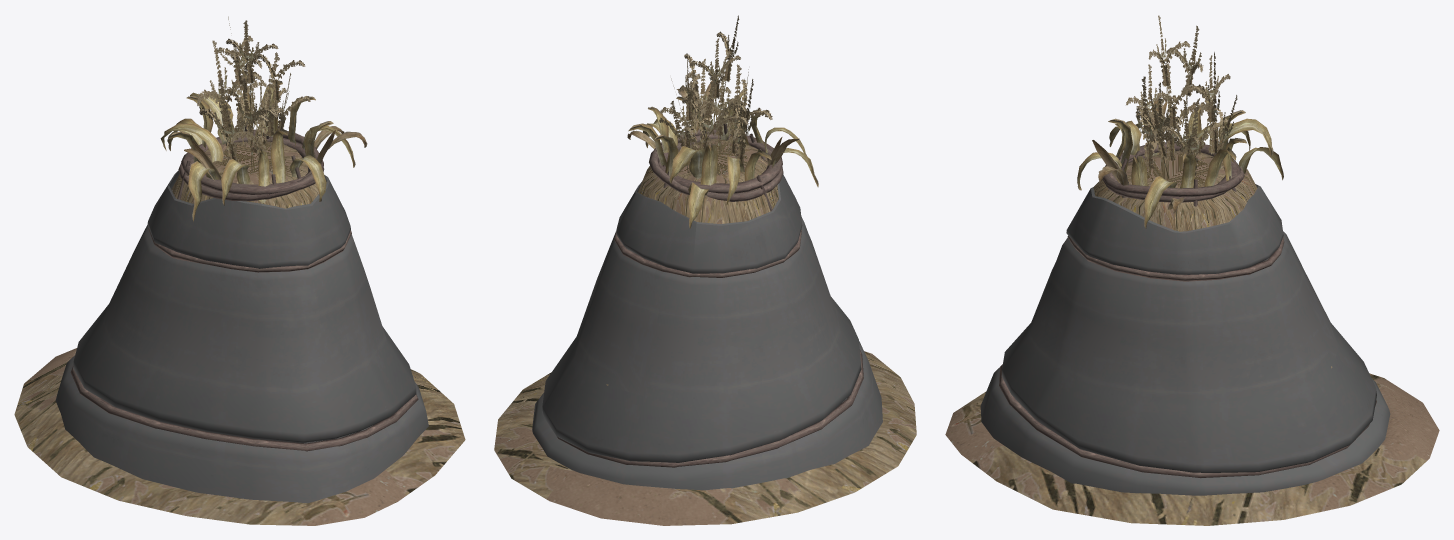
The model's file is SM_FAR_CornStackCover_02.fbx.
The picture shows the model from 3 angles, left to right: view 1: azimuth 30°, elevation 25°; view 2: azimuth 150°, elevation 25°; view 3: azimuth 270°, elevation 25°; orthographic projection. The views are drawn at different scales.
Visible parts, largest first — view 1: SM_FAR_CornStackCover_02.mo; view 2: SM_FAR_CornStackCover_02.mo; view 3: SM_FAR_CornStackCover_02.mo.
Boxes of the visible parts, x1,y1,x2,y2 form: SM_FAR_CornStackCover_02.mo: (14,16,465,525); SM_FAR_CornStackCover_02.mo: (494,15,916,525); SM_FAR_CornStackCover_02.mo: (945,15,1439,525).
Bounding box in the file's own units: 325 × 349 × 376.
